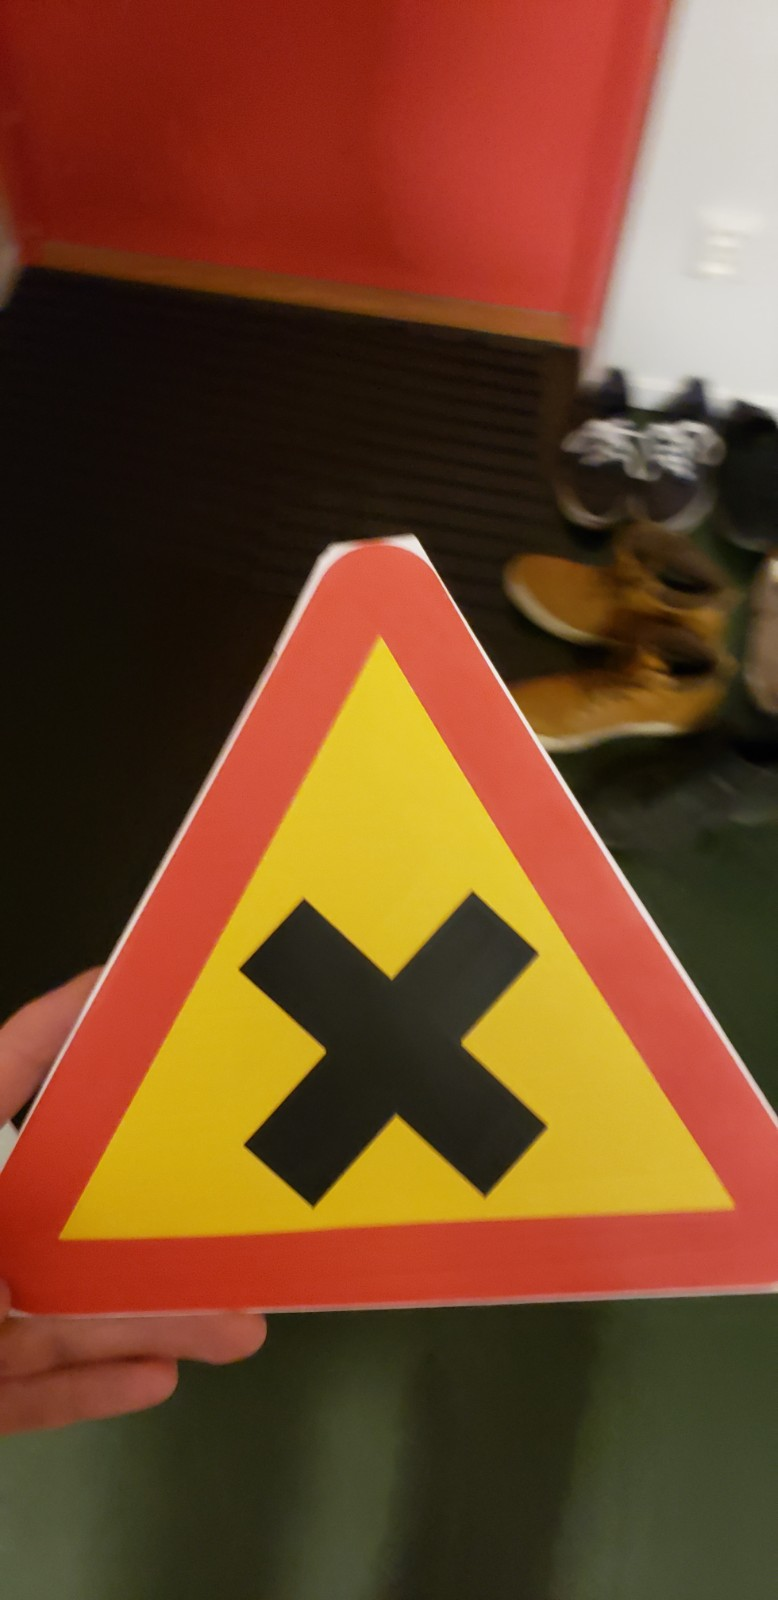junction: (34, 465, 778, 1347)
